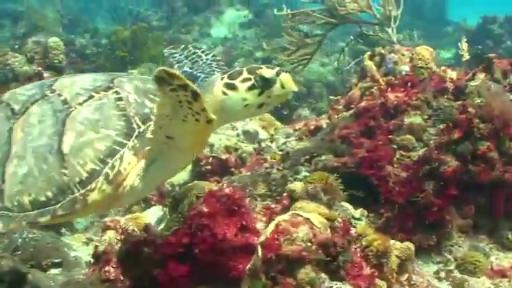Fish: (0, 46, 297, 231)
